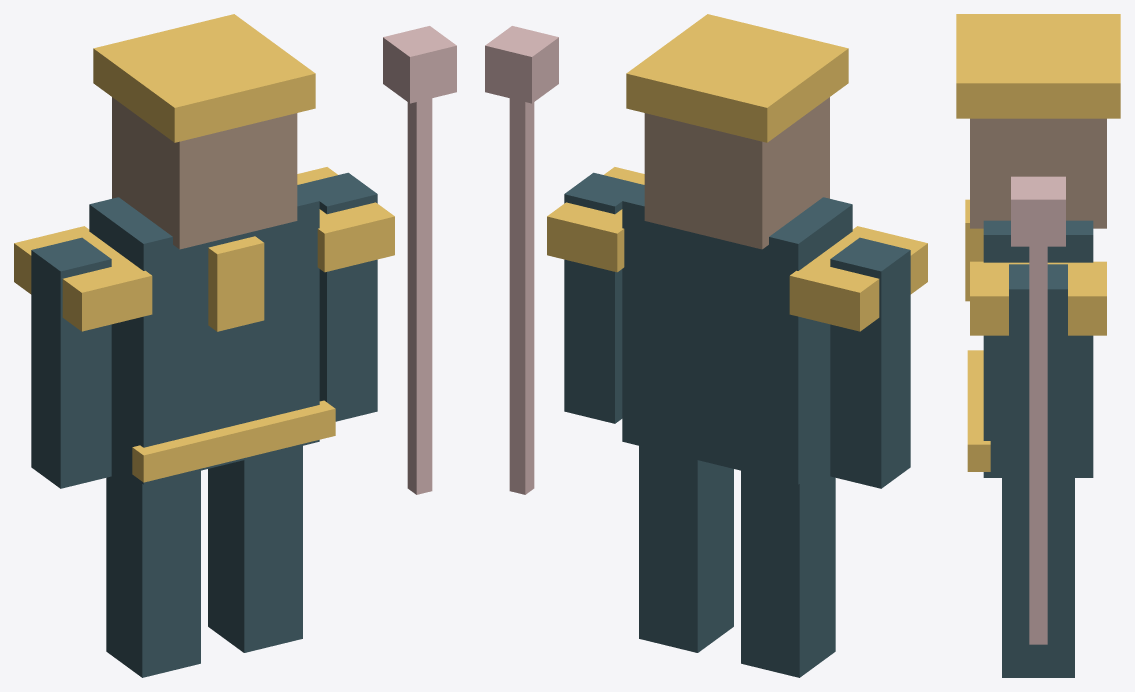
Rendered from 05_astra_chromabell_cartographer_near.glb.
3 views of the same model, side by side, from view 1: azimuth 30°, elevation 25°; view 2: azimuth 150°, elevation 25°; view 3: azimuth 270°, elevation 25° (orthographic).
Visible parts, largest first — view 1: Astra Chromabell, Cartographer near; view 2: Astra Chromabell, Cartographer near; view 3: Astra Chromabell, Cartographer near.
Boxes of the visible parts, x1,y1,x2,y2 form: Astra Chromabell, Cartographer near: [14, 14, 456, 677]; Astra Chromabell, Cartographer near: [485, 14, 927, 677]; Astra Chromabell, Cartographer near: [956, 14, 1120, 677].
Bounding box in the file's own units: 1.06 × 1.48 × 0.3746.
